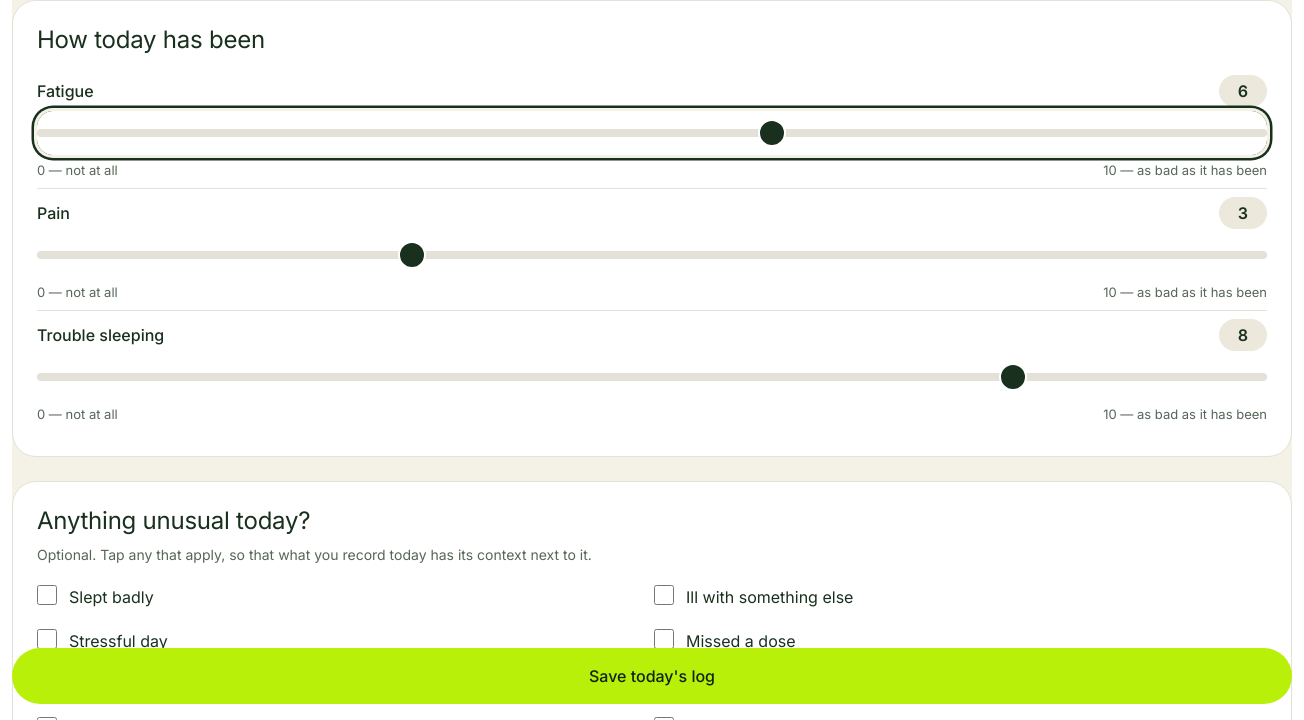
Test case: the sliders are operable with a keyboard alone › shows the current value in text, and moves it when the value changes
Expected: the text "6" is shown, [1219,75,1267,107]
Set the slider labelled "Fatigue" to "7" at (895, 133), box [37,111,1267,155]
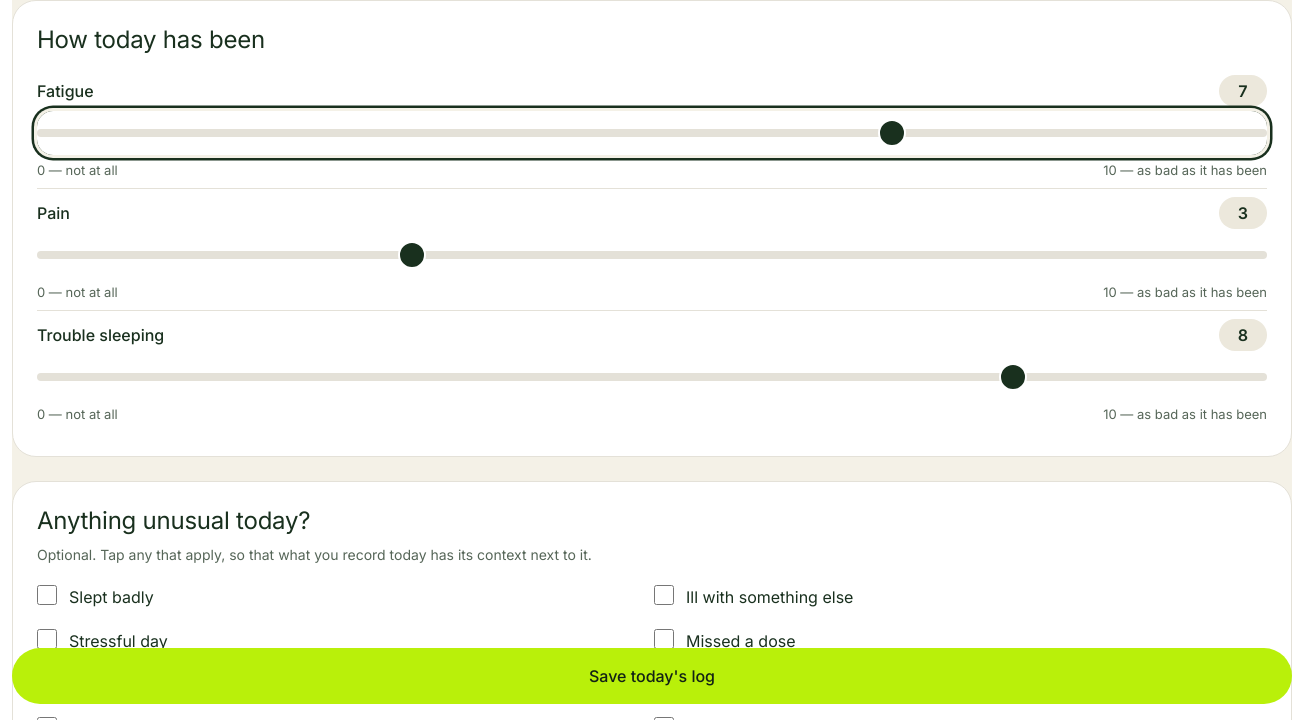
Now the text "7" is shown, box [1219,75,1267,107]
